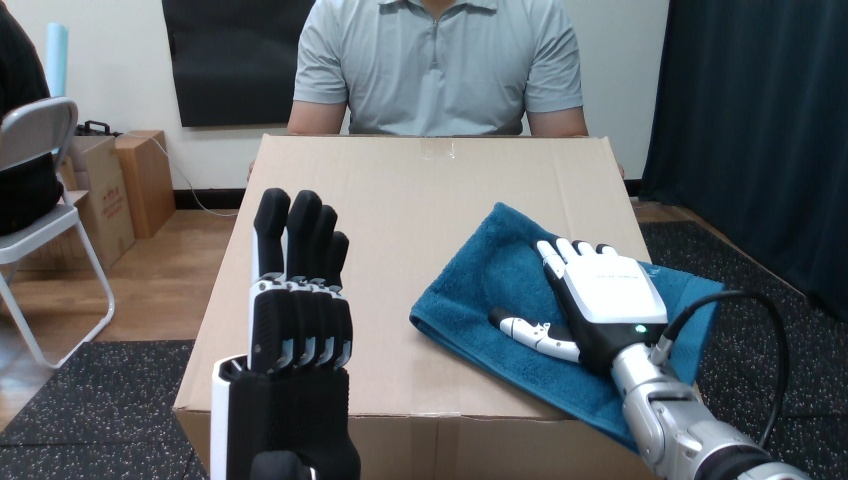left robot hand: (489, 238, 809, 479), (210, 188, 359, 479), (669, 297, 779, 445)
